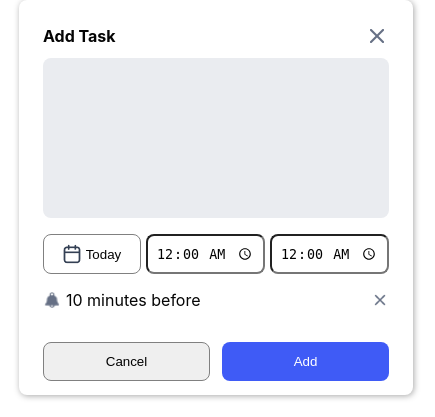
Test: TodoCard › should display an error message when trying to submit without a title
Step 1. Click the button "Add" → [306, 362], box [222,342,389,381]
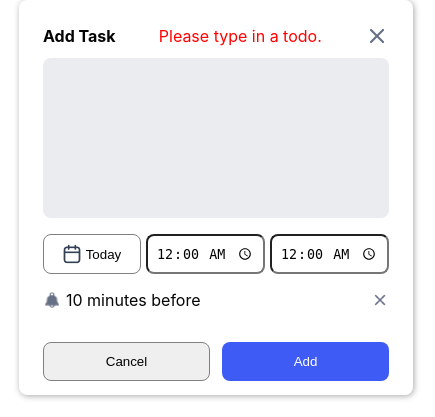
Now the text "Please type in a todo." is shown, box [159,26,322,46]
